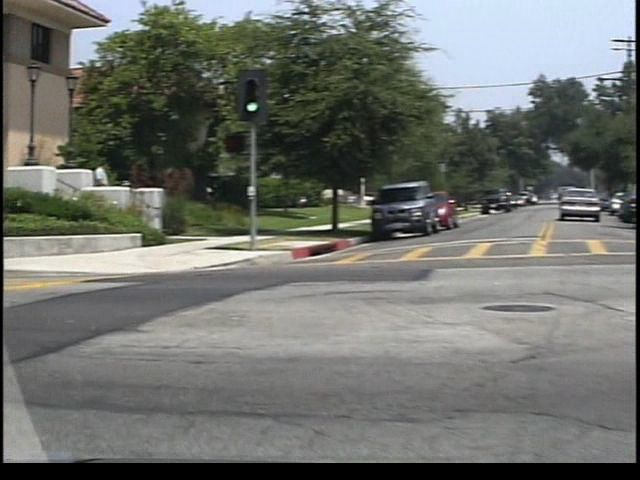person: (82, 152, 103, 217)
